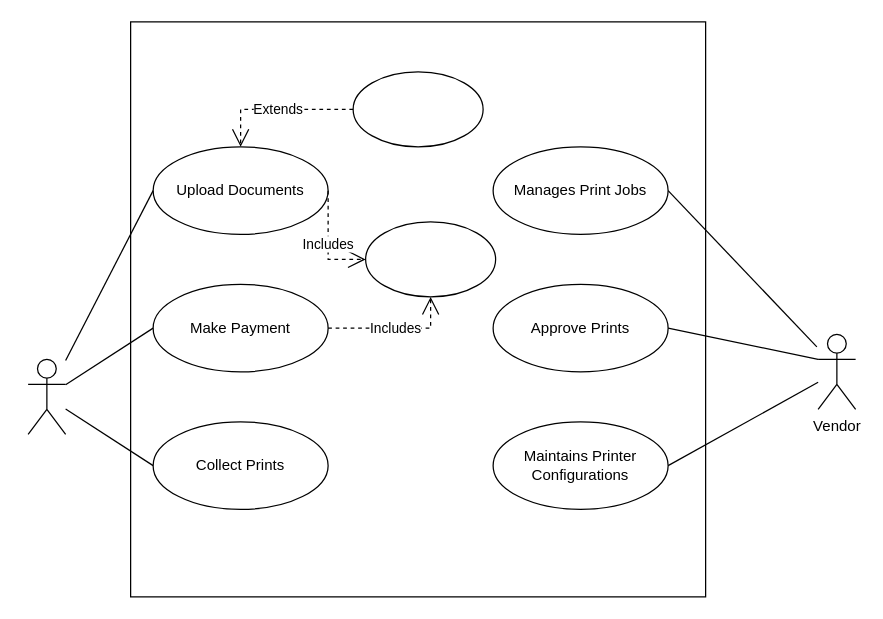
The diagram is 883 pixels wide and 619 high, and some of its shapes have lost their labels. The shapes that lost their labels are listed below. From the top down, each one's centre as x and y in pixels, then its label:
point 417,109: Word Document Parsing
point 430,259: Login
point 46,396: Student
